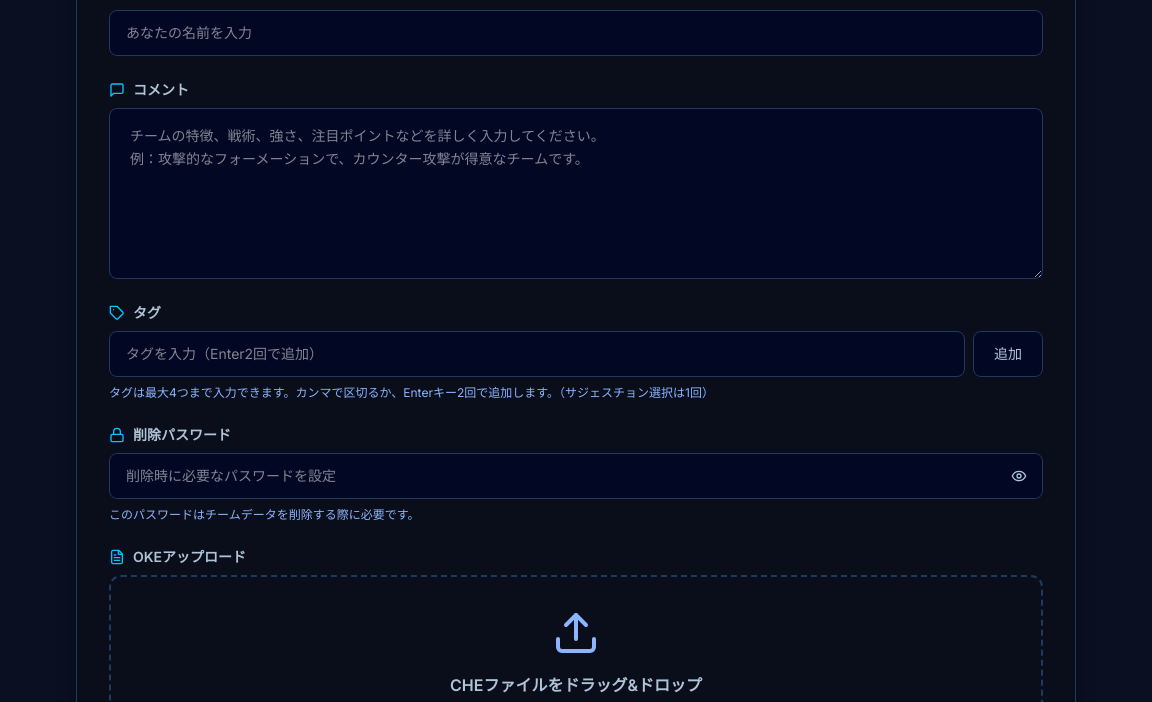
Test: FileUploadForm › Tag Suggestion Feature › should show checkbox selector when input is empty
The width and height of the screenshot is (1152, 702).
(page scrolled)
Note: 入力フィールドをフォーカス（入力なし）
Step 1. Click the field with placeholder "タグを入力（Enter2回で追加）" → [537, 354], box [109,331,965,377]
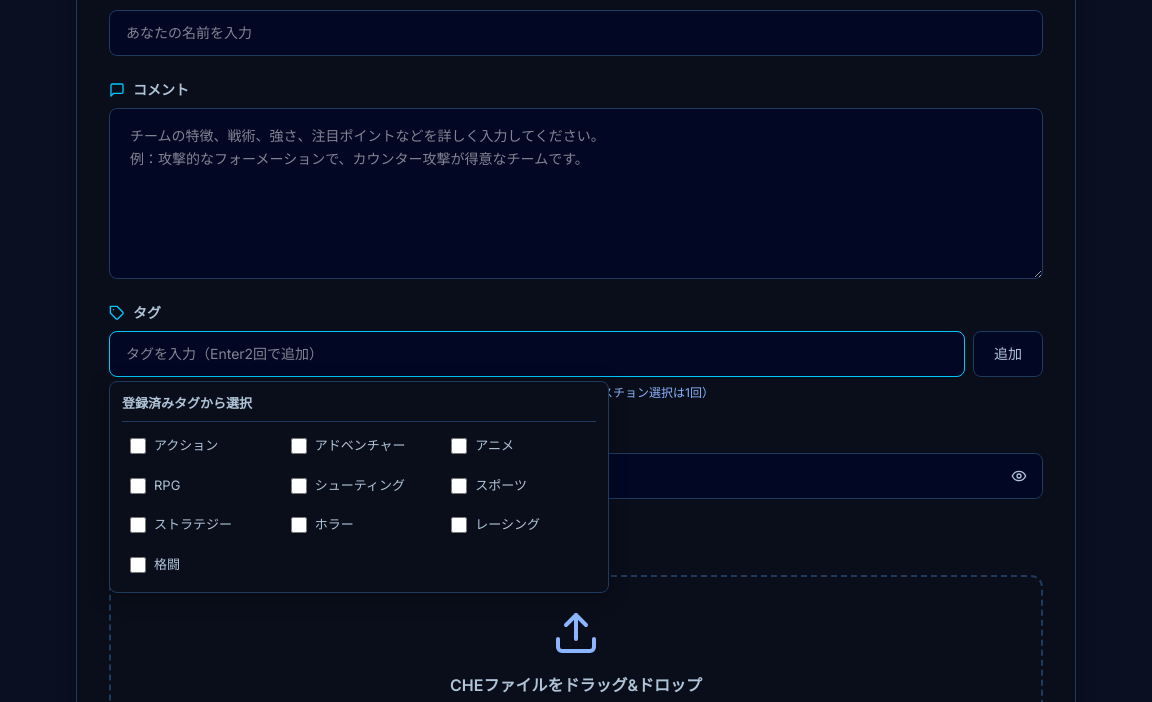
Expected: the checkbox labelled "アクション" is shown, [130,438,146,454]
Expected: the text "登録済みタグから選択" is shown, [122,394,596,422]
